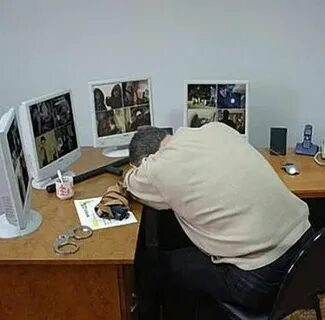sleep: (123, 121, 314, 306)
